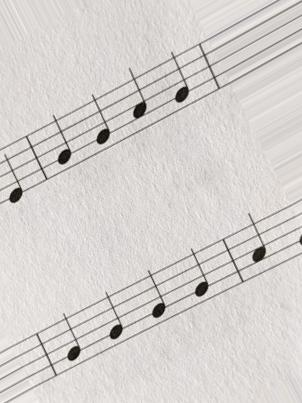A: (121, 65, 151, 141), (244, 210, 271, 285)
E: (1, 150, 27, 213)
G: (141, 266, 173, 331), (165, 49, 195, 114), (186, 245, 216, 310), (100, 284, 127, 355), (57, 310, 85, 375), (86, 91, 115, 153), (48, 112, 75, 173)
